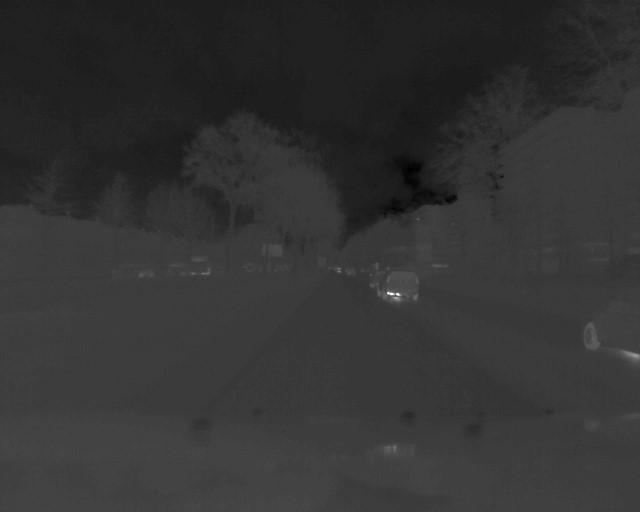car: (580, 285, 640, 360), (375, 268, 422, 305)
